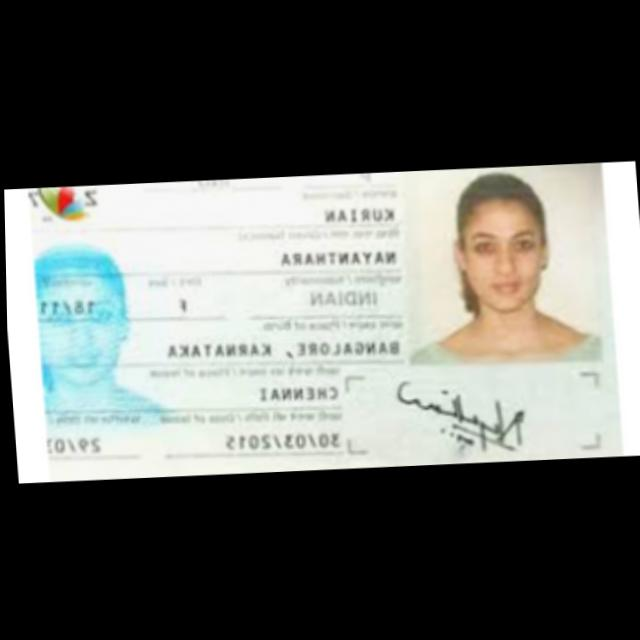passport: (18, 159, 627, 485)
